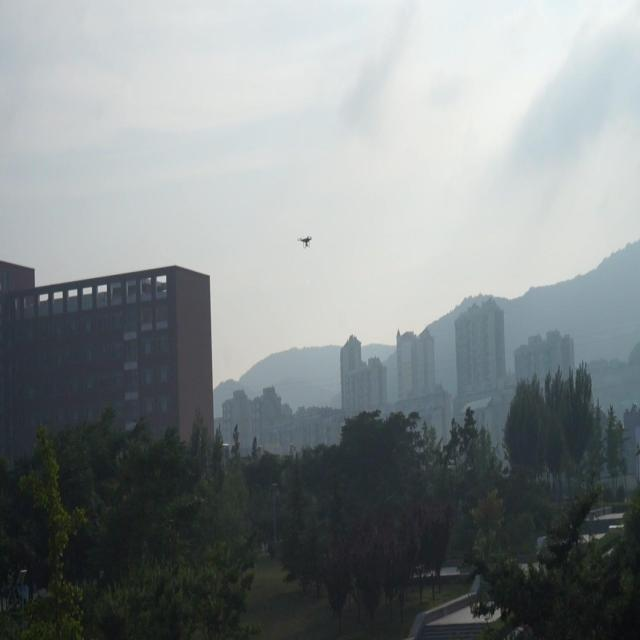drone: (298, 233, 314, 250)
